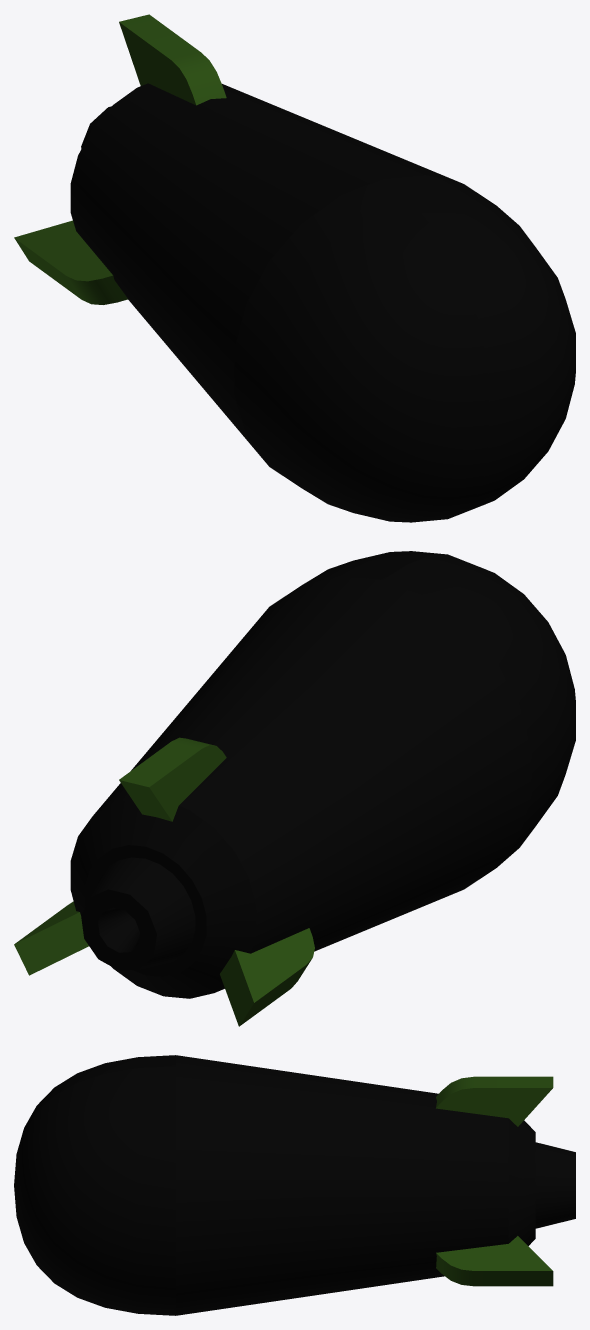
The model's file is rocket.fbx.
3 renders of one model, top to bottom at view 1: azimuth 30°, elevation 25°; view 2: azimuth 150°, elevation 25°; view 3: azimuth 270°, elevation 25°, orthographic. The views are drawn at different scales.
Visible parts, largest first — view 1: rocket; view 2: rocket; view 3: rocket.
Part boxes in pixels (bbox=[...]): rocket: bbox=[14, 14, 575, 522]; rocket: bbox=[14, 551, 575, 1026]; rocket: bbox=[14, 1055, 575, 1315].
Size of the model in its own units: 23.78 by 24.02 by 51.31.
